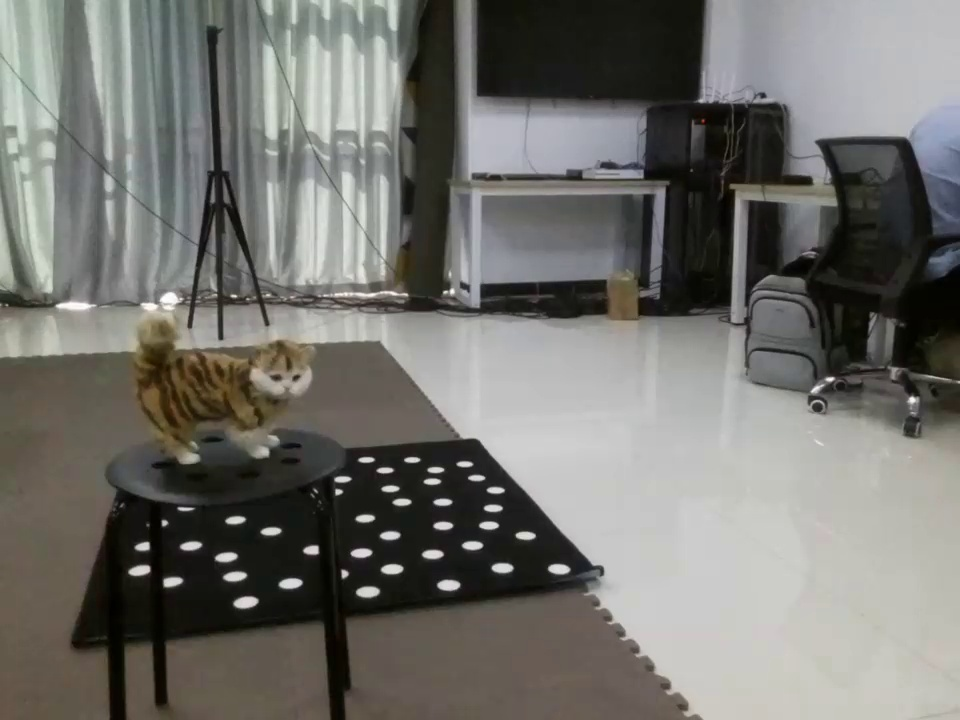cat: (110, 311, 337, 467)
